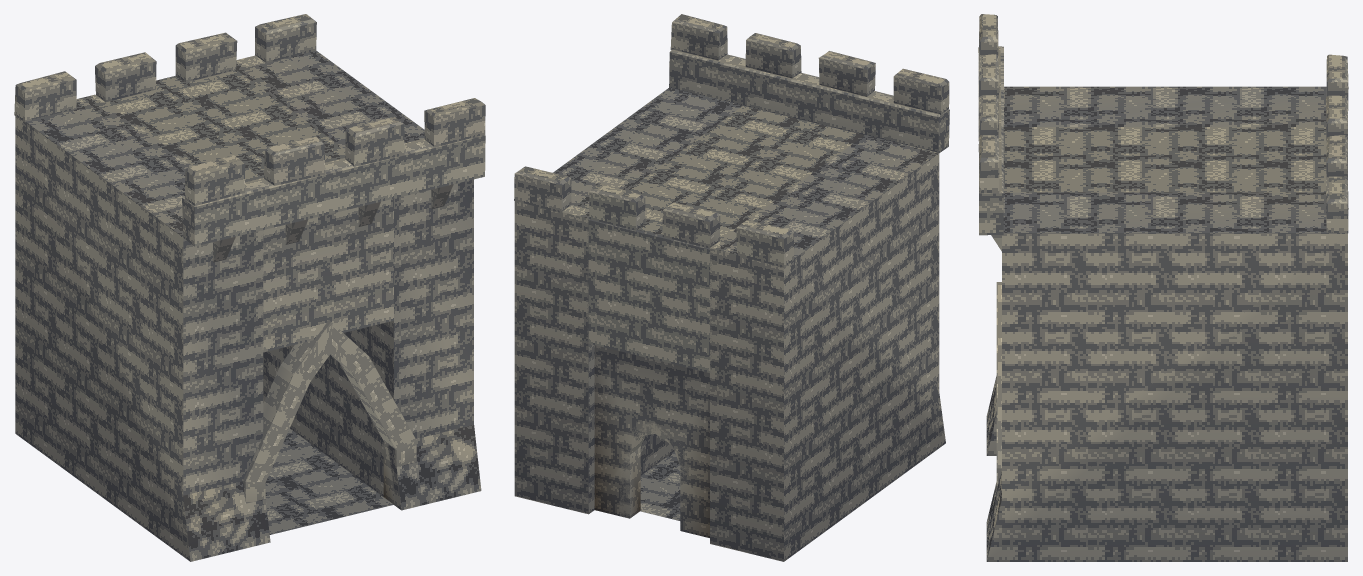
File: cst.gatehouse__deep.glb
The picture shows the model from 3 angles, left to right: view 1: azimuth 30°, elevation 25°; view 2: azimuth 150°, elevation 25°; view 3: azimuth 270°, elevation 25°; orthographic projection. The views are drawn at different scales.
Visible parts, largest first — view 1: kit_block, kit_top, kit_detail, kit_shell_passage_floor; view 2: kit_block, kit_top, kit_shell_passage_floor, kit_detail; view 3: kit_block, kit_top, kit_detail.
Boxes of the visible parts, x1,y1,x2,y2 form: kit_block: [15, 50, 481, 561]; kit_top: [14, 14, 485, 246]; kit_detail: [213, 184, 453, 505]; kit_shell_passage_floor: [265, 428, 393, 534]; kit_block: [514, 87, 945, 561]; kit_top: [514, 14, 949, 267]; kit_shell_passage_floor: [640, 451, 680, 520]; kit_detail: [620, 422, 690, 529]; kit_block: [986, 86, 1347, 561]; kit_top: [978, 14, 1348, 235]; kit_detail: [991, 235, 1001, 489].
Bounding box in the file's own units: 8.04 × 10.3 × 8.56.
5 materials, 5 textured.
